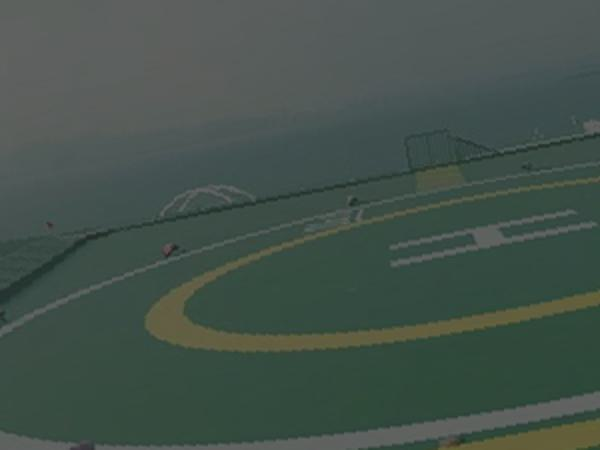Apron: (140, 163, 600, 358)
